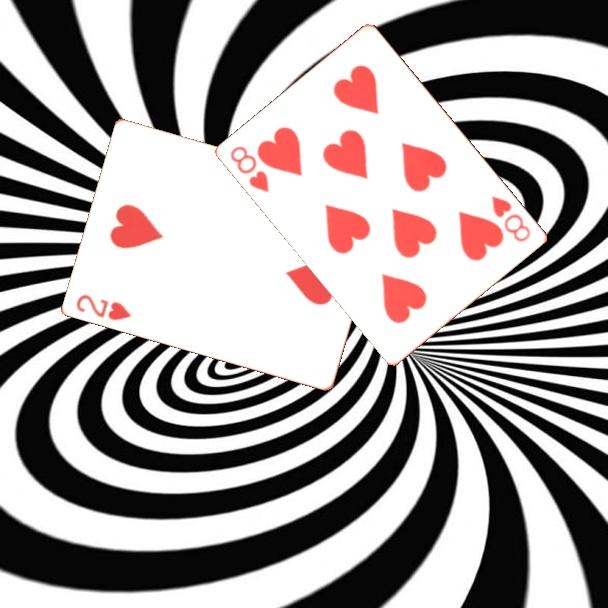h02: (73, 291, 135, 323)
h08: (227, 142, 273, 196), (488, 192, 534, 245)
